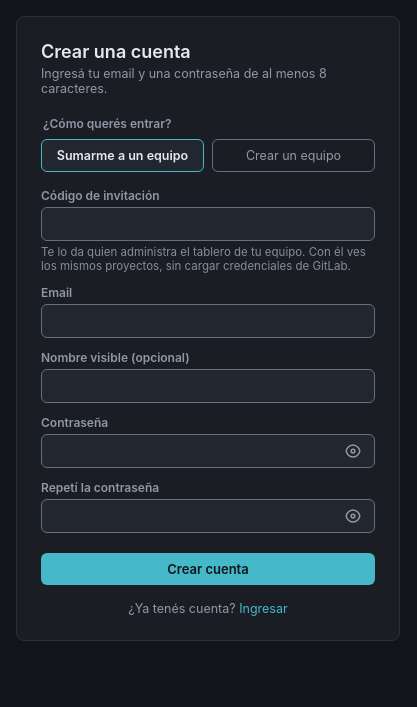
Test: RegisterForm › avisa y no envía cuando las contraseñas no coinciden
The width and height of the screenshot is (417, 707).
Type "ABCD234XYZ" into the field labelled "Código de invitación" at (208, 224), box top-left (41, 207), bottom-right (375, 241)
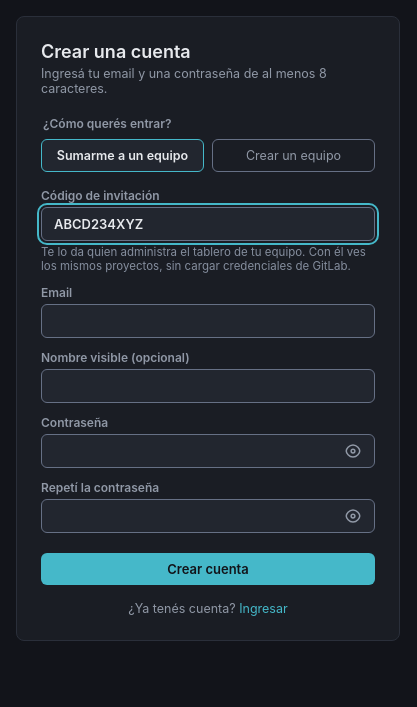
Type "zoe@example.com" into the field labelled "Email" at (208, 321), box top-left (41, 304), bottom-right (375, 338)
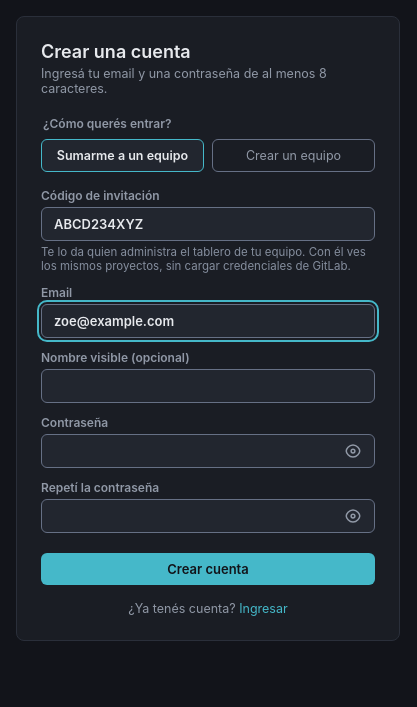
Type "contrasena-de-prueba" into the password field labelled "Contraseña" at (208, 451), box top-left (41, 434), bottom-right (375, 468)
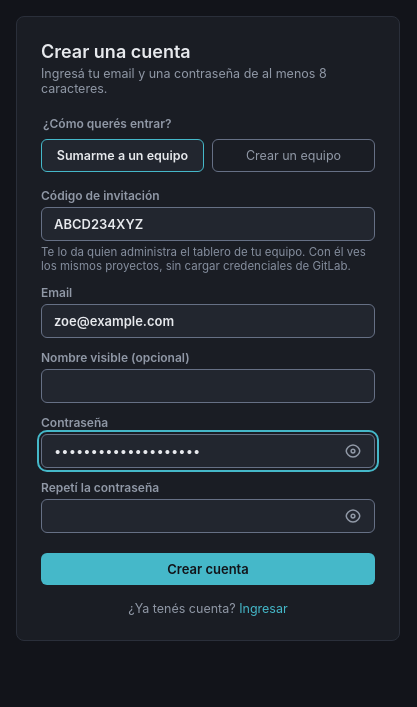
Type "otra-contrasena" into the password field labelled "Repetí la contraseña" at (208, 516), box top-left (41, 499), bottom-right (375, 533)
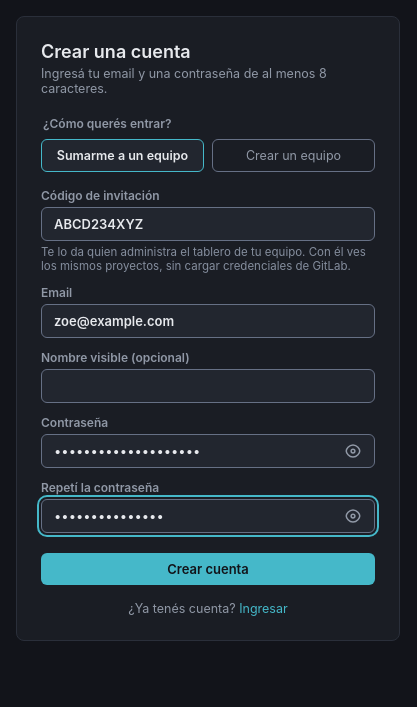
Click the button "Crear cuenta" at (208, 569), box top-left (41, 553), bottom-right (375, 585)
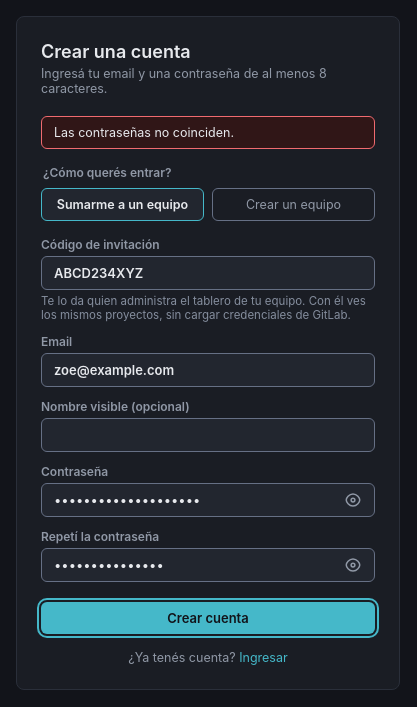
expect the message reads "Las contraseñas no coinciden.": met, box top-left (54, 125), bottom-right (234, 140)
